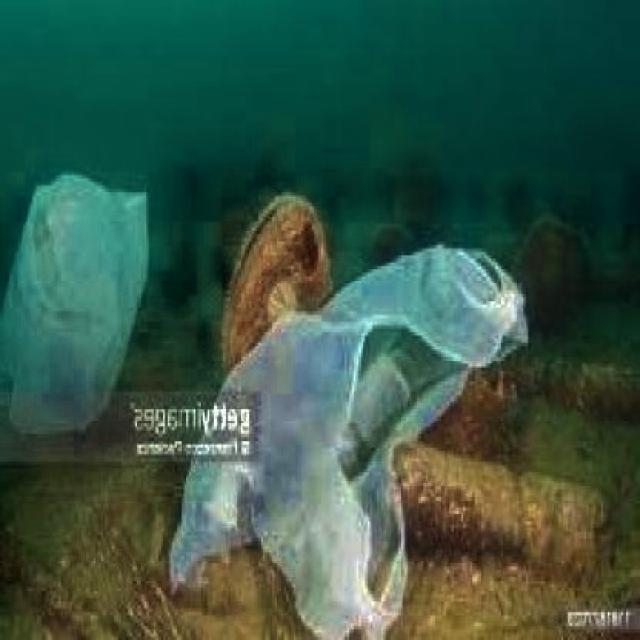pbag: (165, 237, 532, 640), (2, 154, 158, 451)
